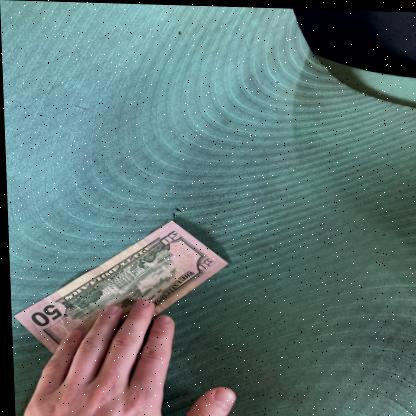fifty-back: (11, 219, 227, 374)
